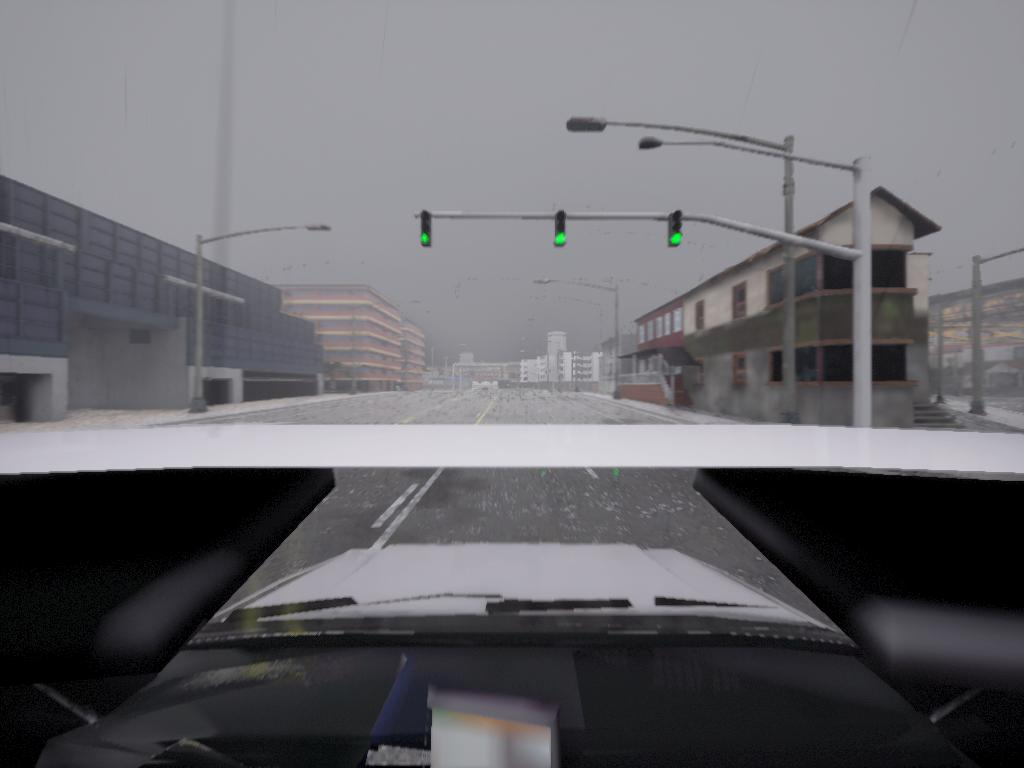traffic_light: (668, 214, 684, 249), (554, 214, 568, 249), (420, 214, 433, 249)
